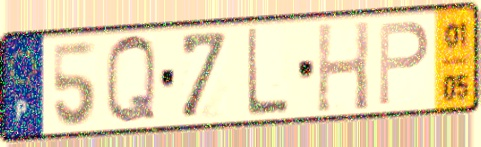5: (50, 37, 99, 130)
7: (179, 30, 232, 123)
H: (314, 18, 372, 116)
L: (244, 25, 291, 121)
P: (376, 19, 432, 109)
Q: (103, 32, 159, 130)
